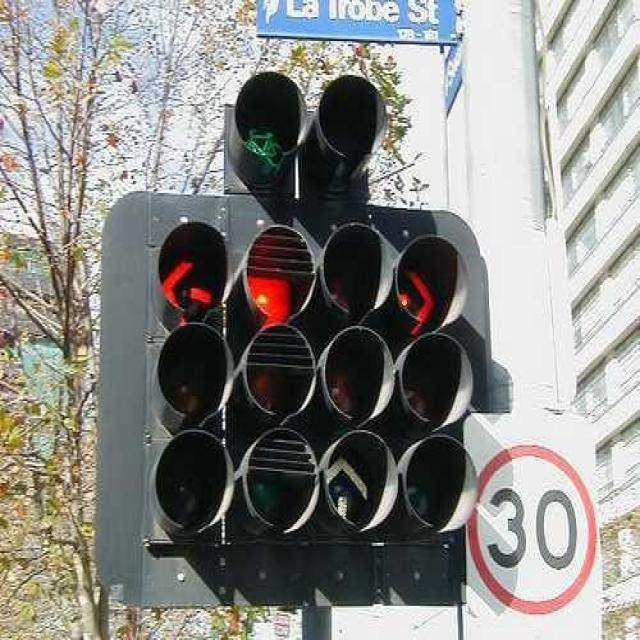Traffic Light -Red-: (232, 205, 324, 555), (145, 212, 235, 552), (392, 217, 480, 539)
